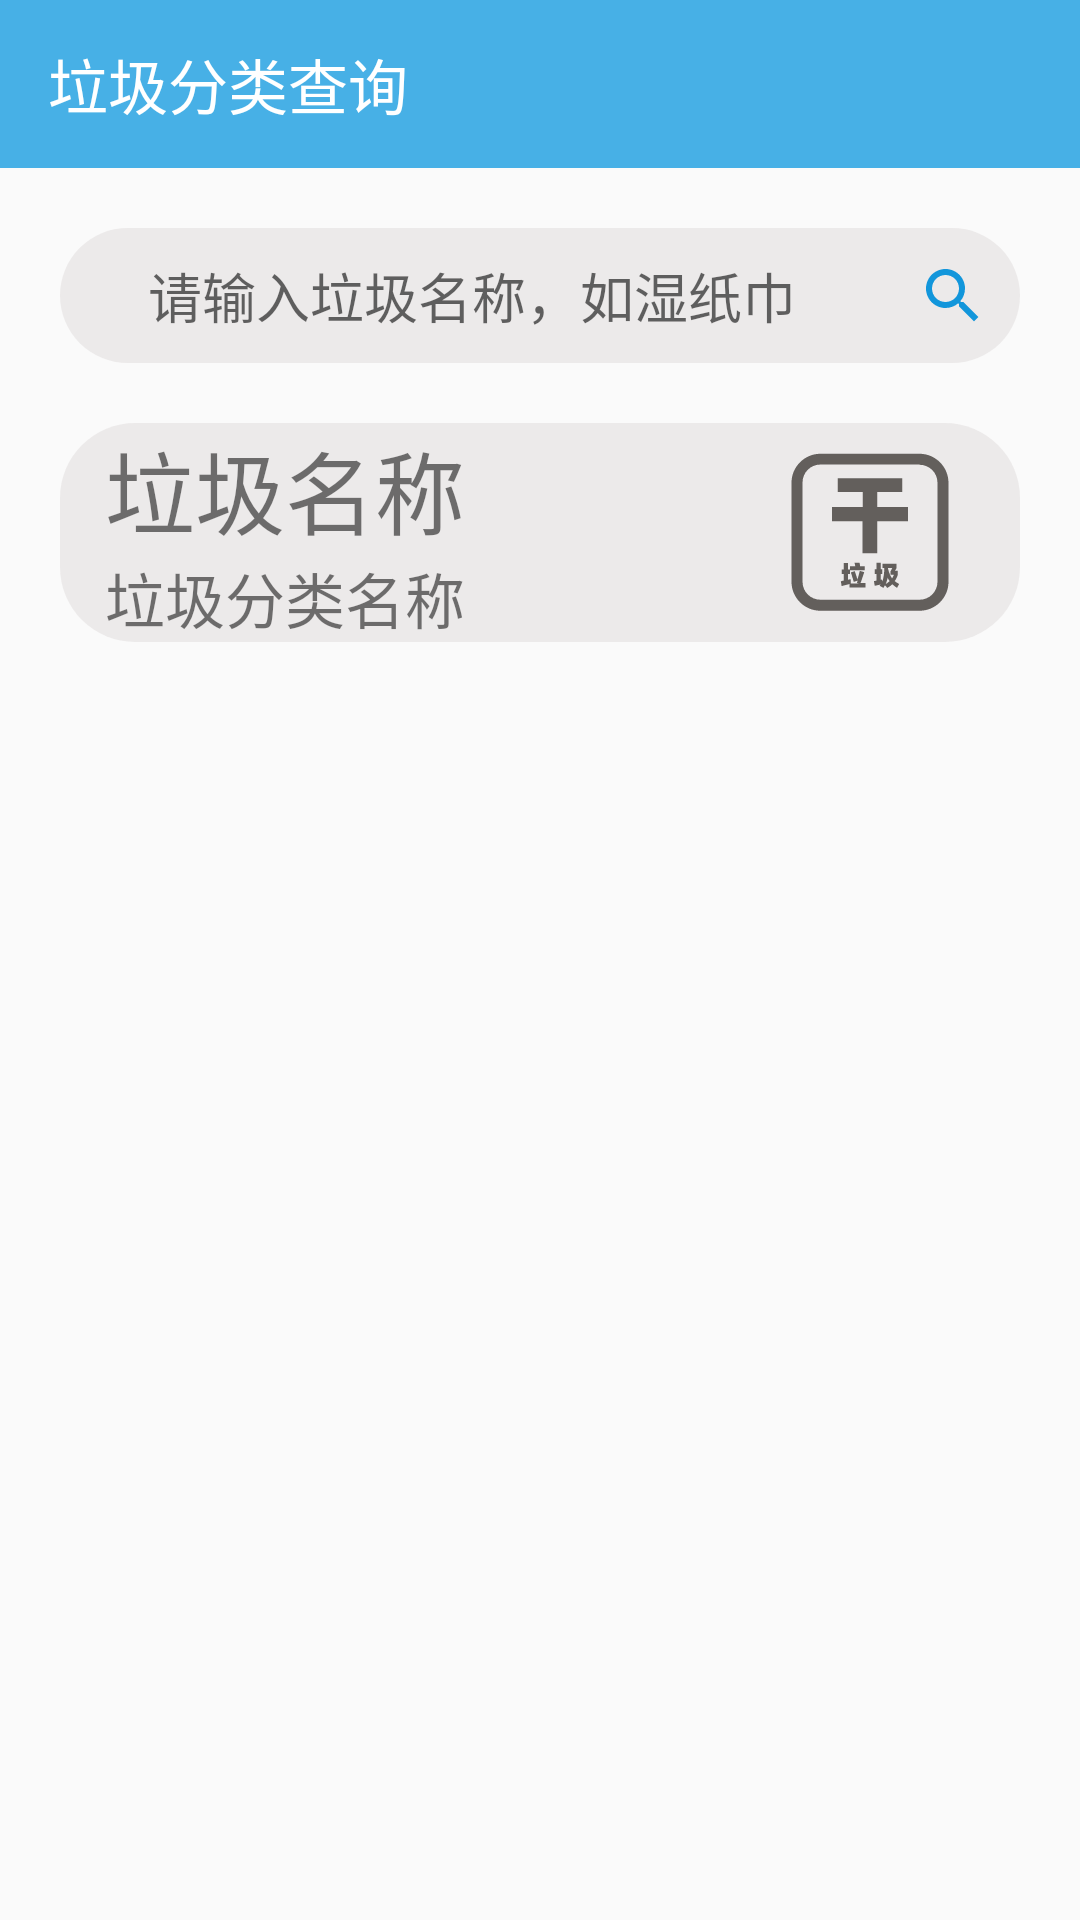

Icon click points for this 1080px×1920px phone screenshot, format [x,y]:
search: [952,295]
